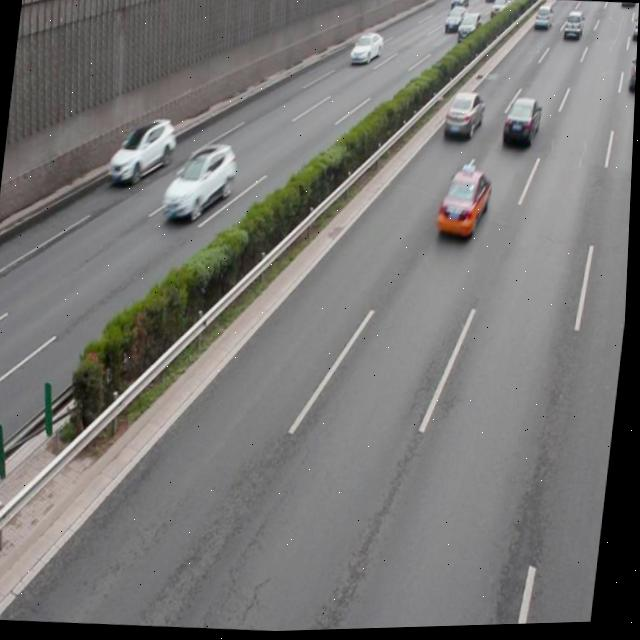car: (161, 138, 242, 223), (108, 114, 179, 186), (436, 165, 494, 242), (442, 91, 487, 142), (501, 98, 543, 151), (627, 54, 638, 101)
